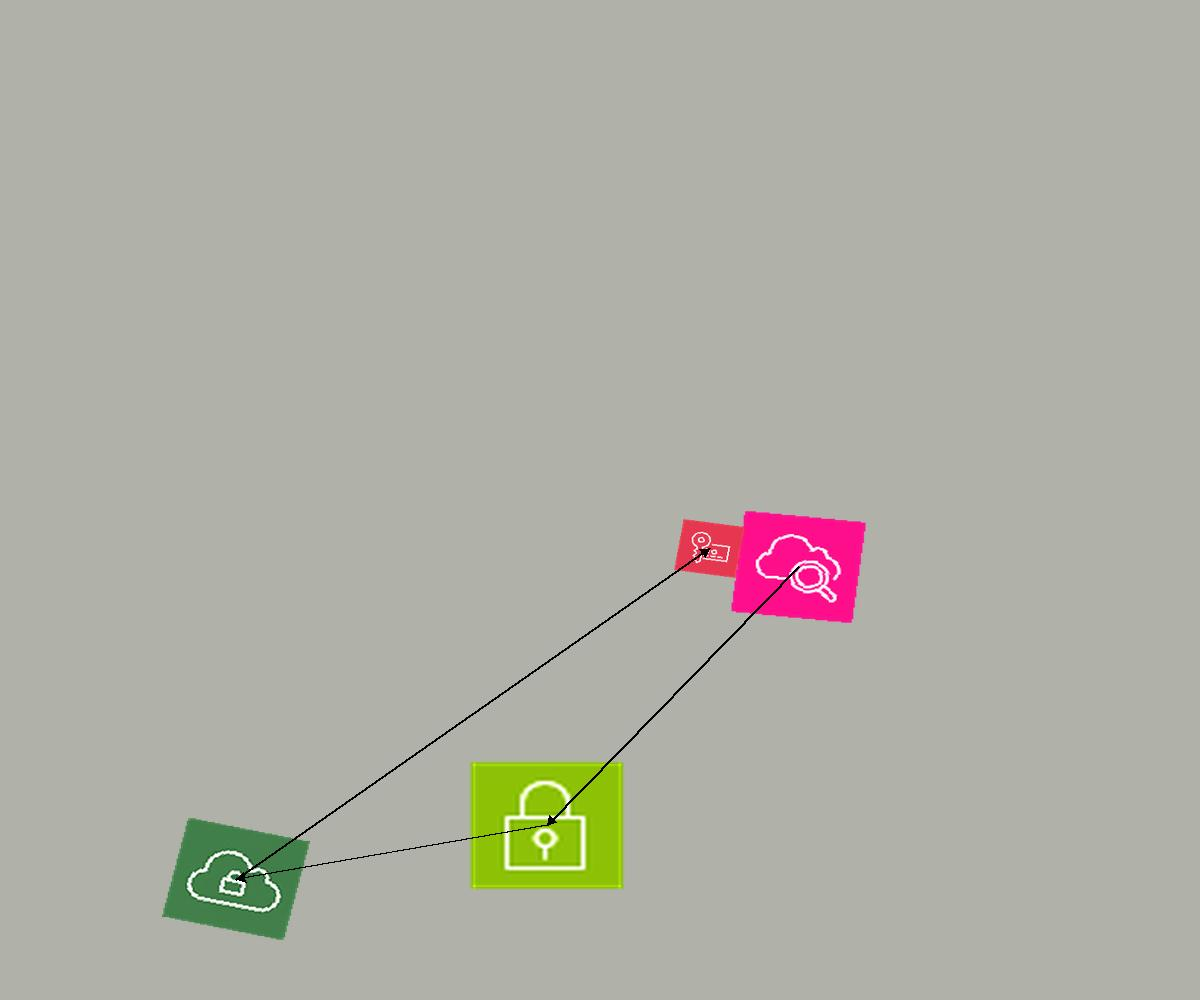AWS-CloudWatch: (730, 510, 867, 624)
AWS-Key-Management-Service: (674, 519, 745, 578)
AWS-Private_vpc: (162, 817, 310, 941)
AWS-Public-subnet: (467, 759, 627, 892)
